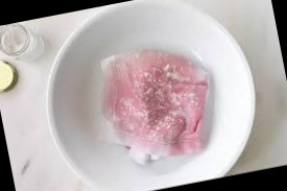wine: (99, 58, 215, 158)
